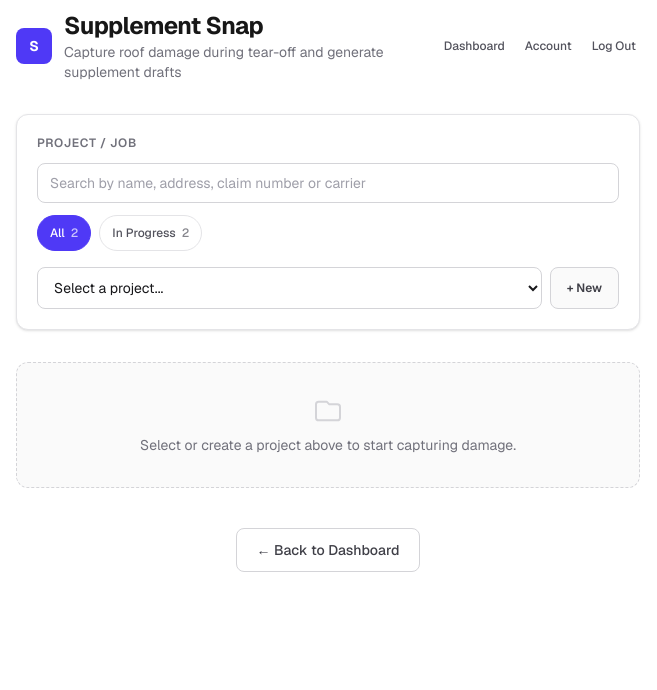
Scenario: dashboard smoke test (stand-in database) › a team member sees the owner's project as view only, with an explanation and without the edit, add or delete controls
Select "Garcia Roof (In Progress)" in the dropdown labelled "Project / Job": (289, 288) [37,267,542,309]
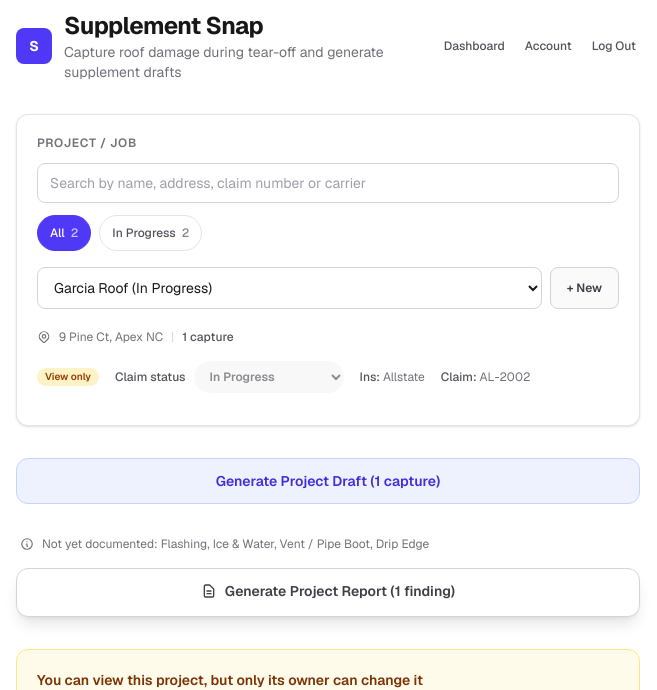
Expected: the text "View only" is shown, [37,368,99,386]
Expected: the dropdown labelled "Claim status" is disabled, [194,361,344,393]
Expected: the button "Generate Project Report (1 finding)" is shown, [16,568,640,617]
